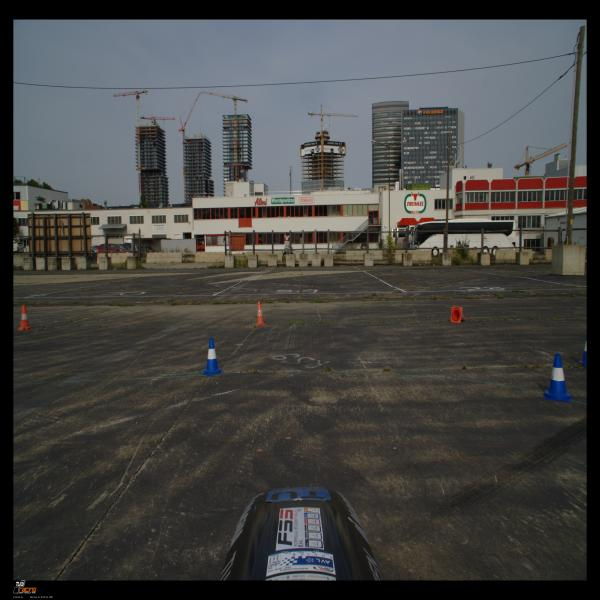blue_cone: (543, 353, 572, 403), (201, 338, 224, 375), (575, 335, 587, 368)
orange_cone: (16, 305, 34, 330), (255, 302, 267, 327), (450, 306, 465, 323)
